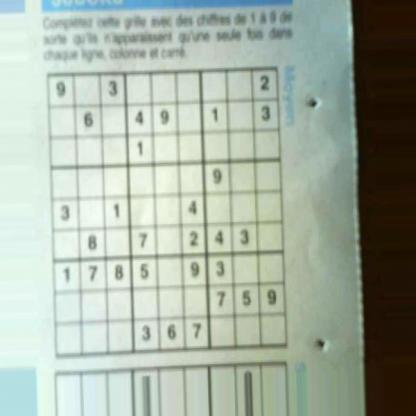sudoku: (44, 65, 293, 360)
